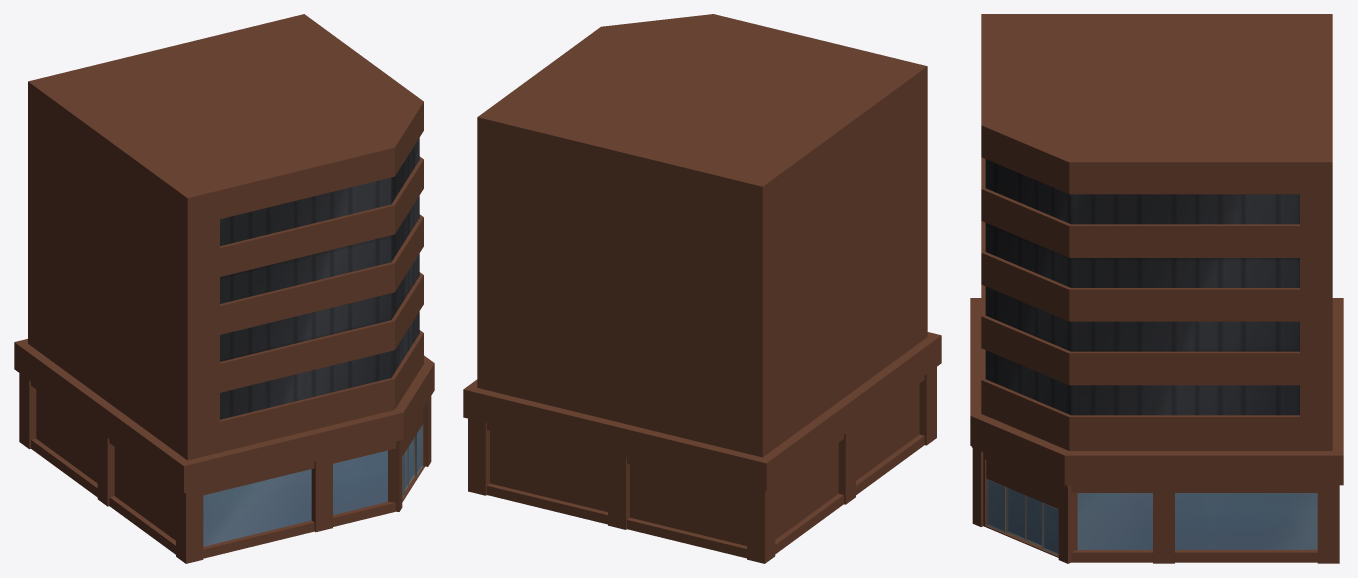
The model's file is Bld_Building_KB.fbx.
The picture shows the model from 3 angles, left to right: view 1: azimuth 30°, elevation 25°; view 2: azimuth 150°, elevation 25°; view 3: azimuth 270°, elevation 25°; orthographic projection. The views are drawn at different scales.
Visible parts, largest first — view 1: Bld_Building_KB; view 2: Bld_Building_KB; view 3: Bld_Building_KB.
Boxes of the visible parts, x1,y1,x2,y2 form: Bld_Building_KB: [14, 14, 434, 563]; Bld_Building_KB: [463, 14, 941, 563]; Bld_Building_KB: [970, 14, 1343, 563].
Bounding box in the file's own units: 1700 × 2000 × 1700.
